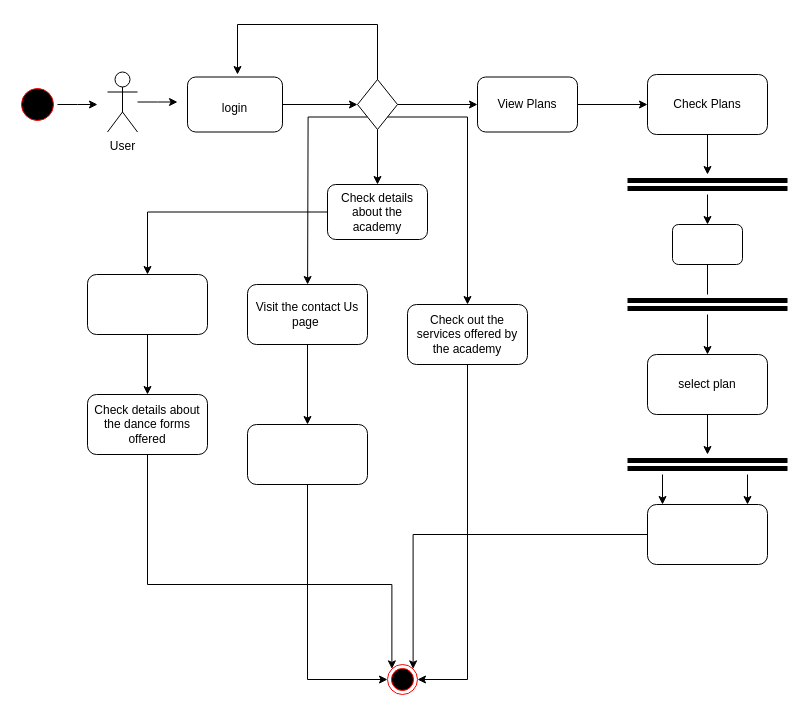
The diagram is 807 pixels wide and 712 high, and some of its shapes have lost their labels. Each missing label, with the centre of its shape:
Check details about the instructors: point 147,304
Enter details and the feedback: point 307,454
Payment: point 707,534
View details of the plans: point 707,244
